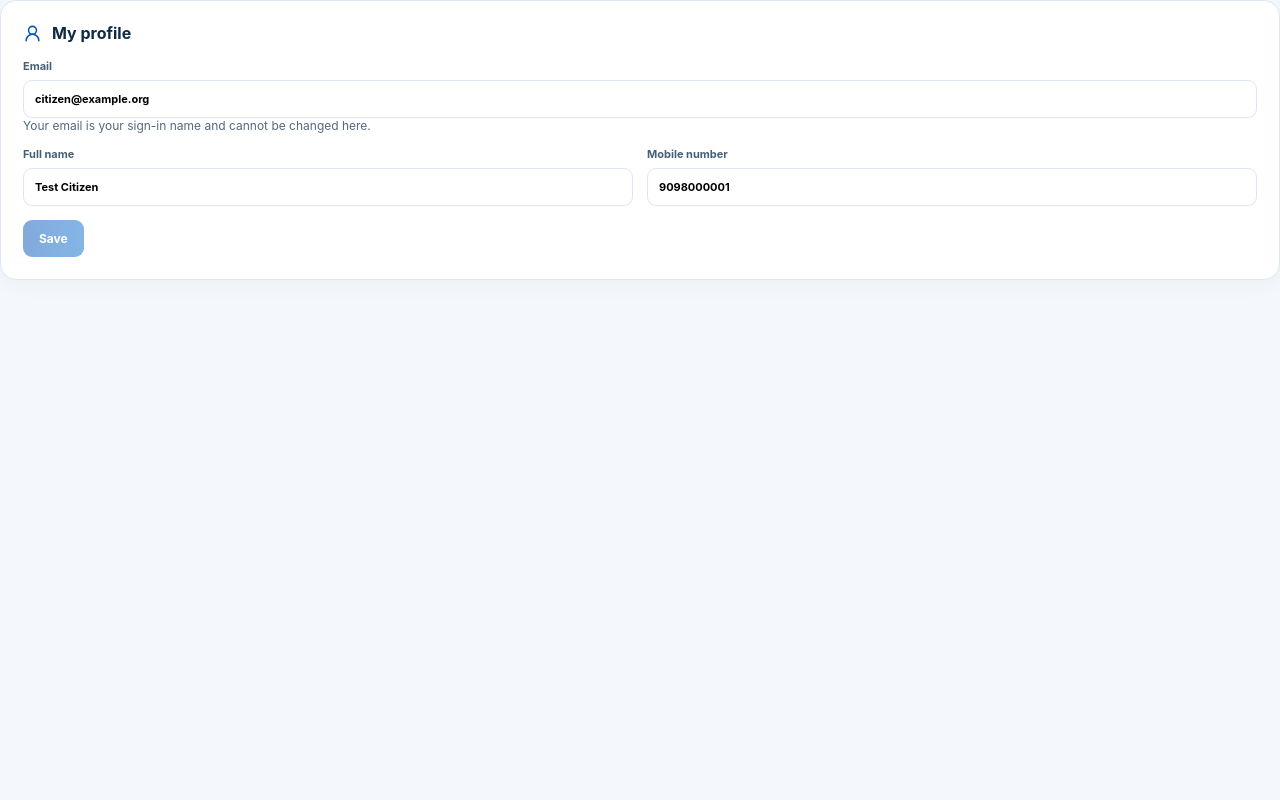
My profile › asks for the password only when the mobile number changes, and sends it
The width and height of the screenshot is (1280, 800).
Expected: the field labelled "Current password" is not shown
Replace the text in the field showing "9098000001" with "9098000002" at point(952, 187), box [647, 168, 1257, 206]
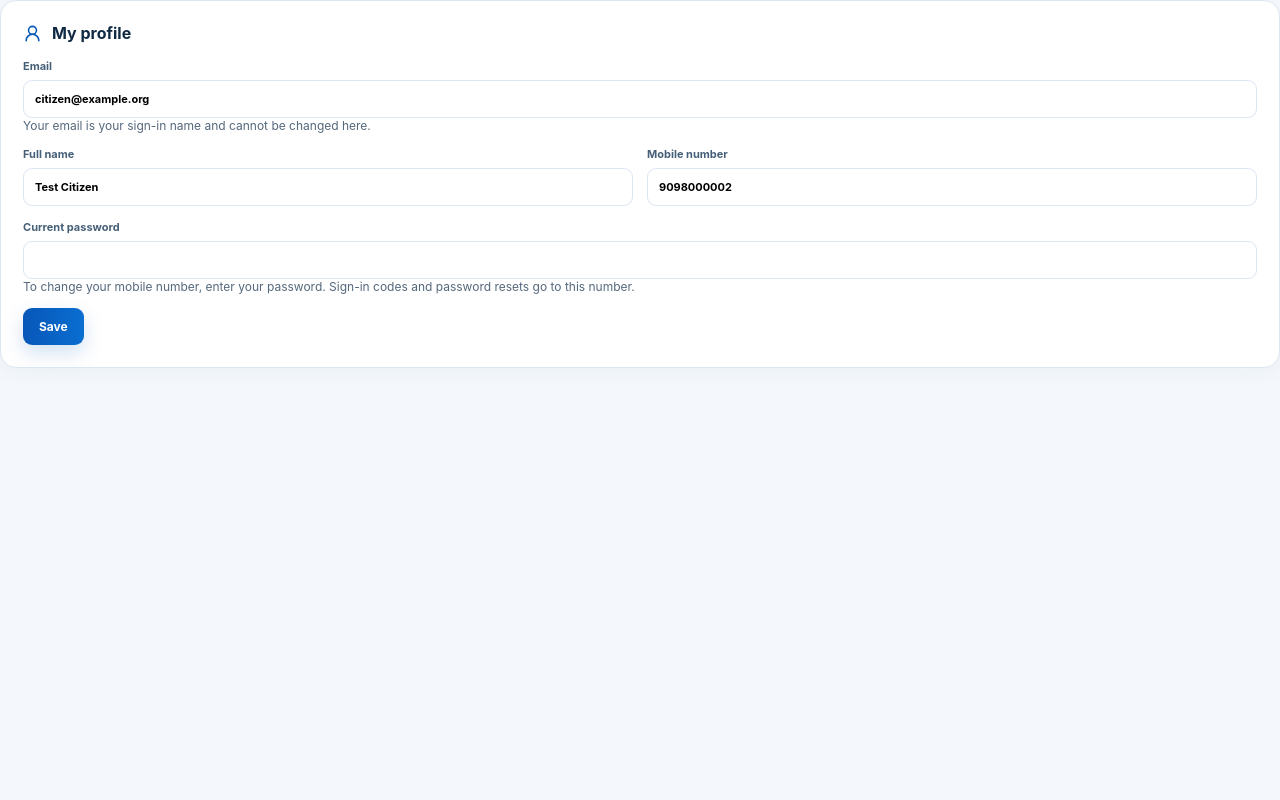
Type "my-password" into the password field labelled "Current password" at point(640, 260), box [23, 241, 1257, 279]
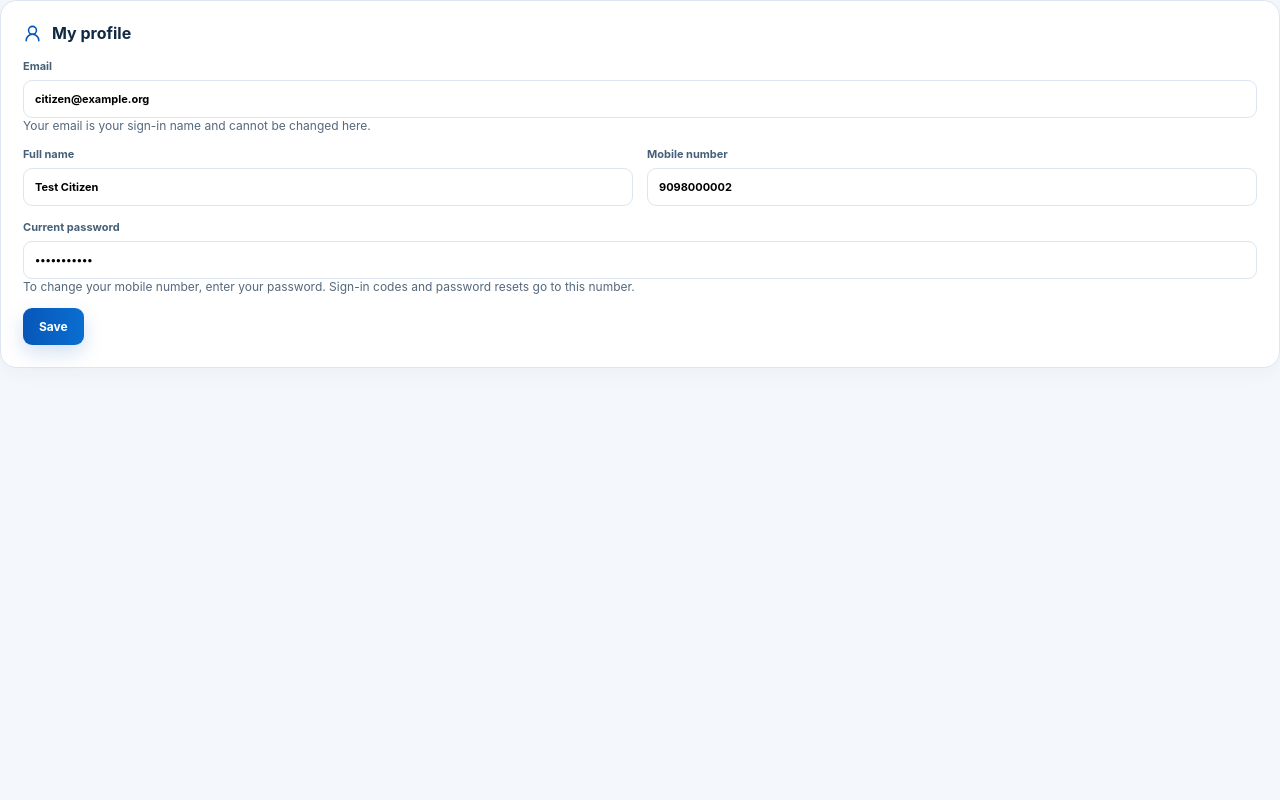
Click the button "Save" at point(53, 326), box [23, 308, 84, 345]
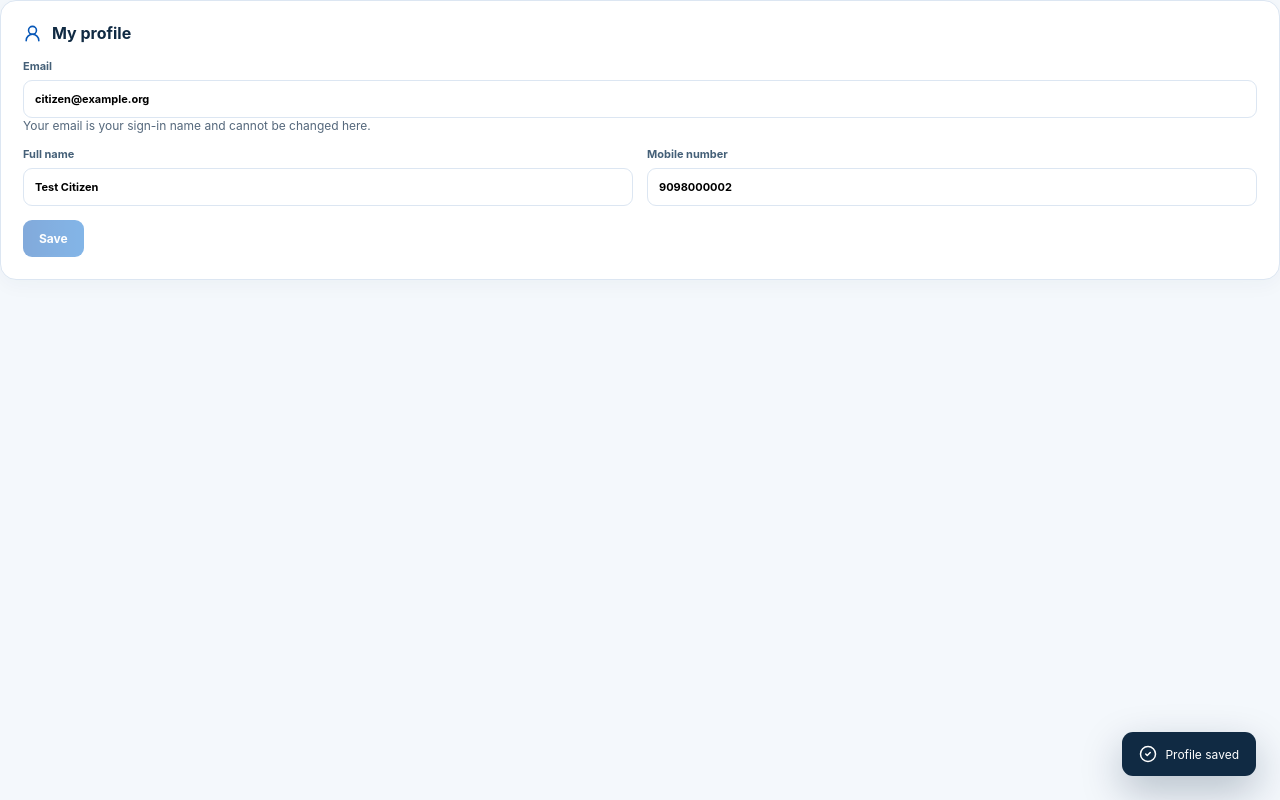
Expected: the text "Profile saved" is shown, [1122, 732, 1256, 776]
Expected: the label labelled "Current password" is gone
